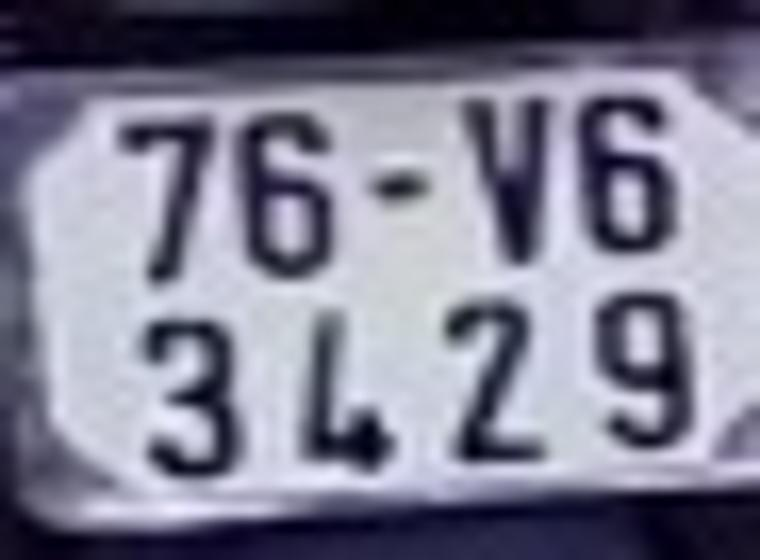-: (371, 175, 424, 196)
2: (448, 297, 539, 462)
3: (143, 318, 238, 476)
4: (298, 307, 395, 474)
6: (236, 107, 332, 276), (575, 99, 671, 255)
7: (119, 119, 213, 283)
9: (598, 291, 690, 447)
V: (465, 91, 550, 264)
